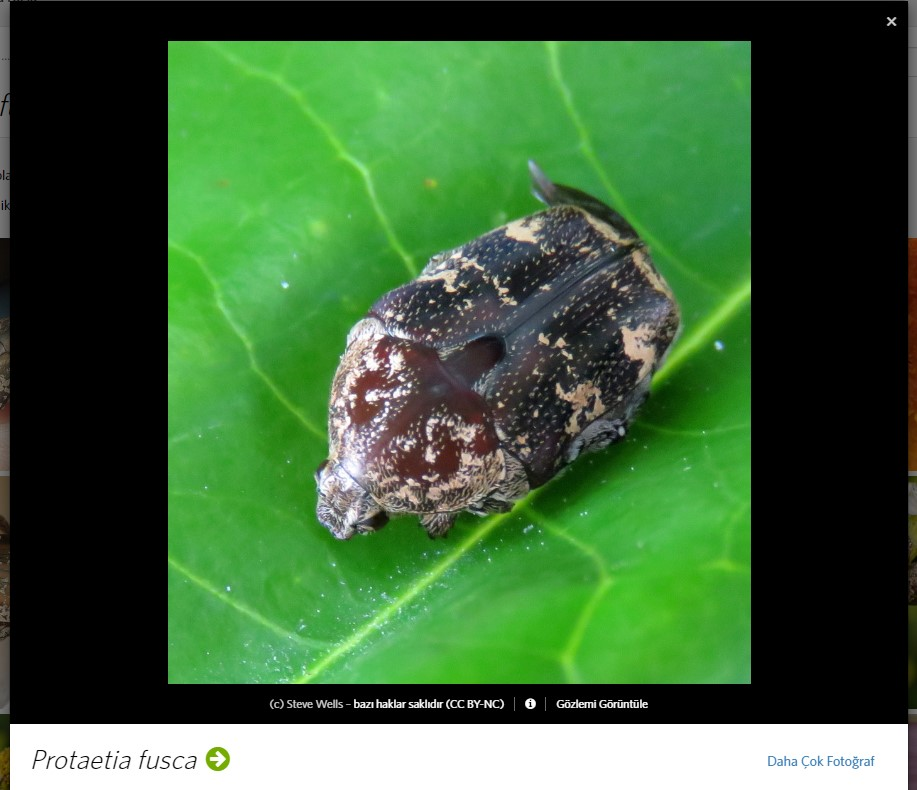Protaetia_fusca: (299, 190, 690, 558)
